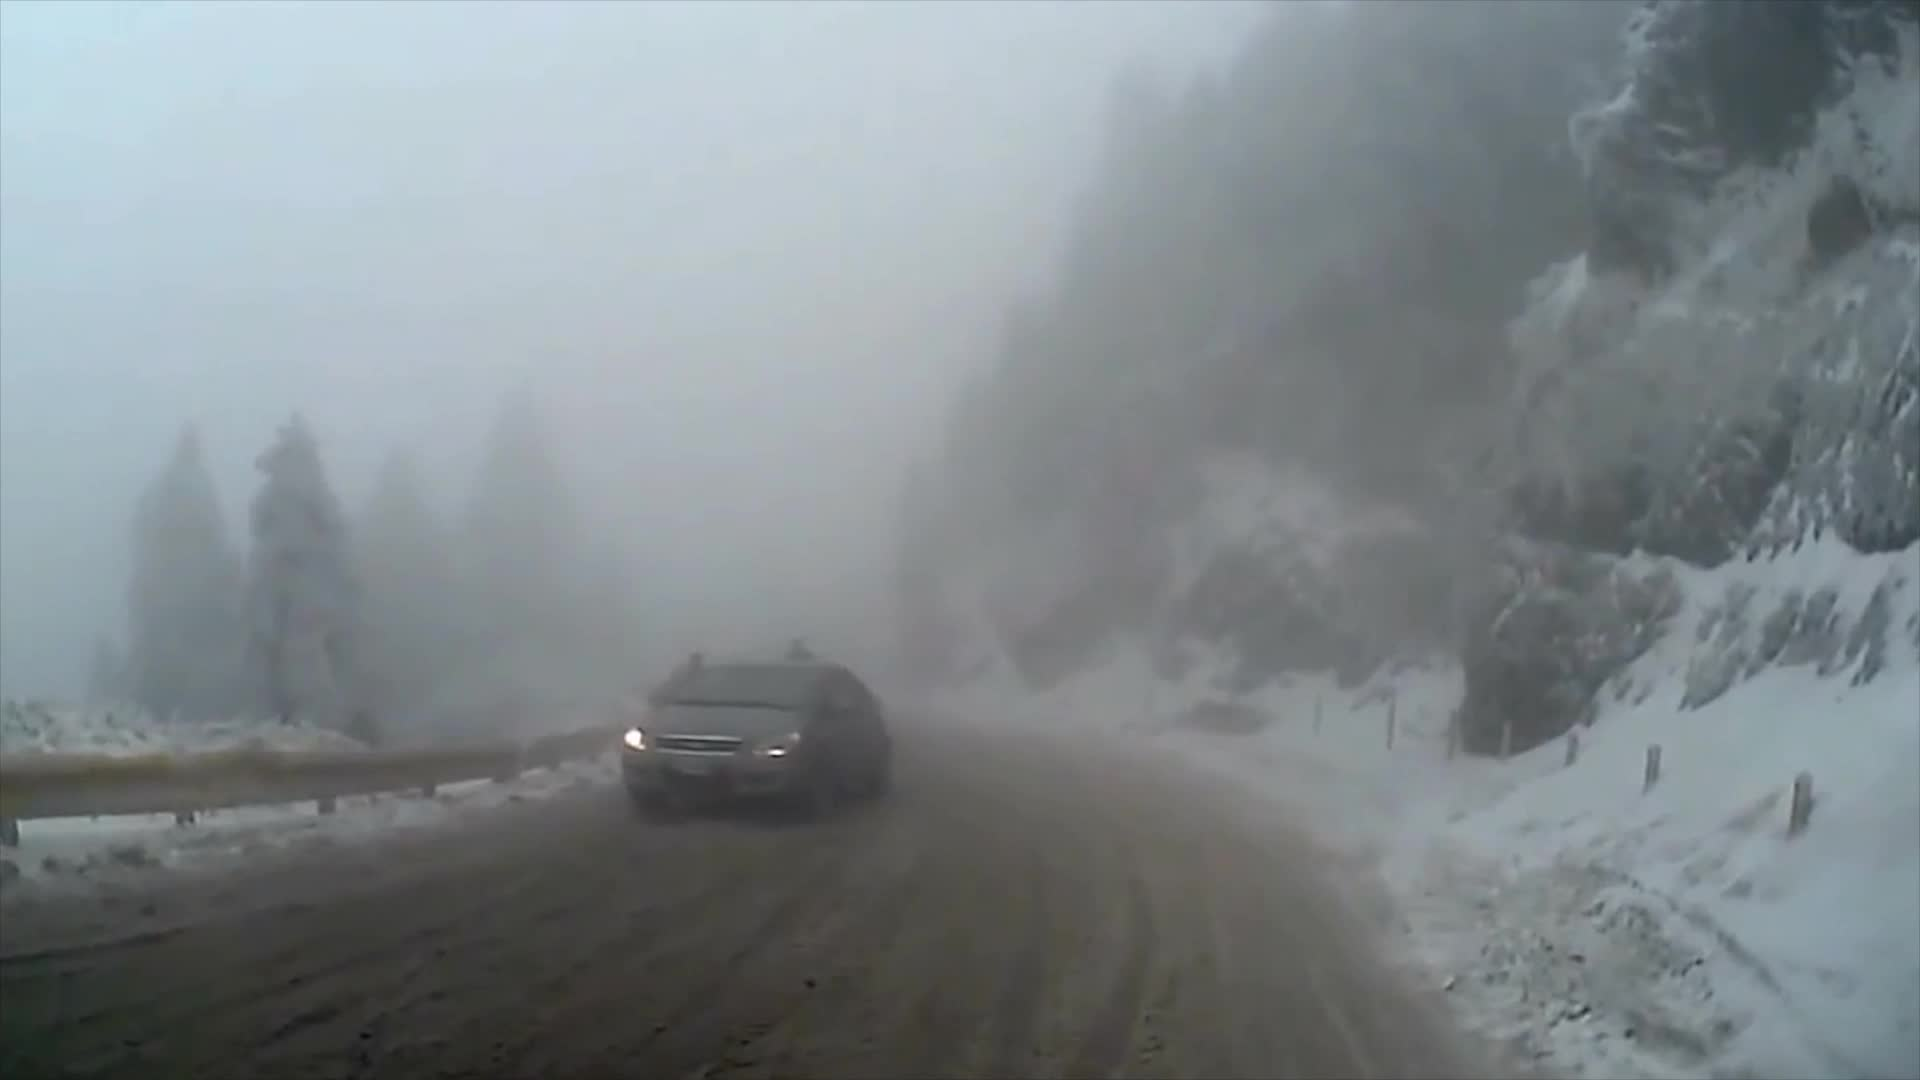vehicle: (616, 655, 890, 822)
